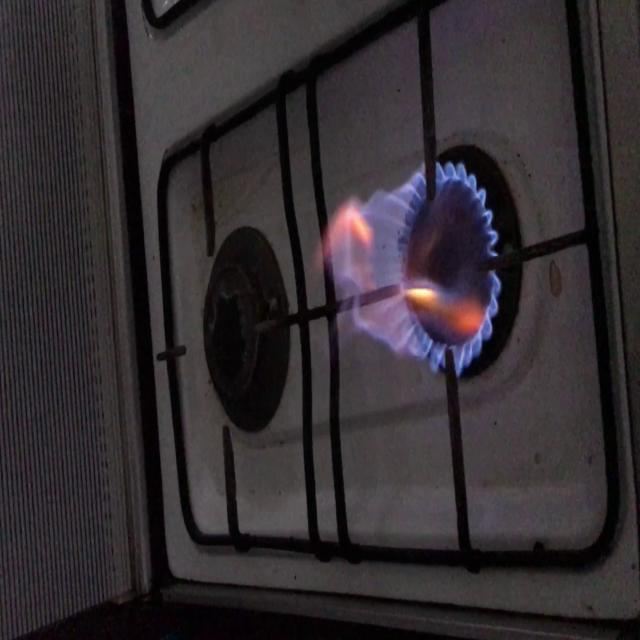Fire: (312, 145, 548, 411)
